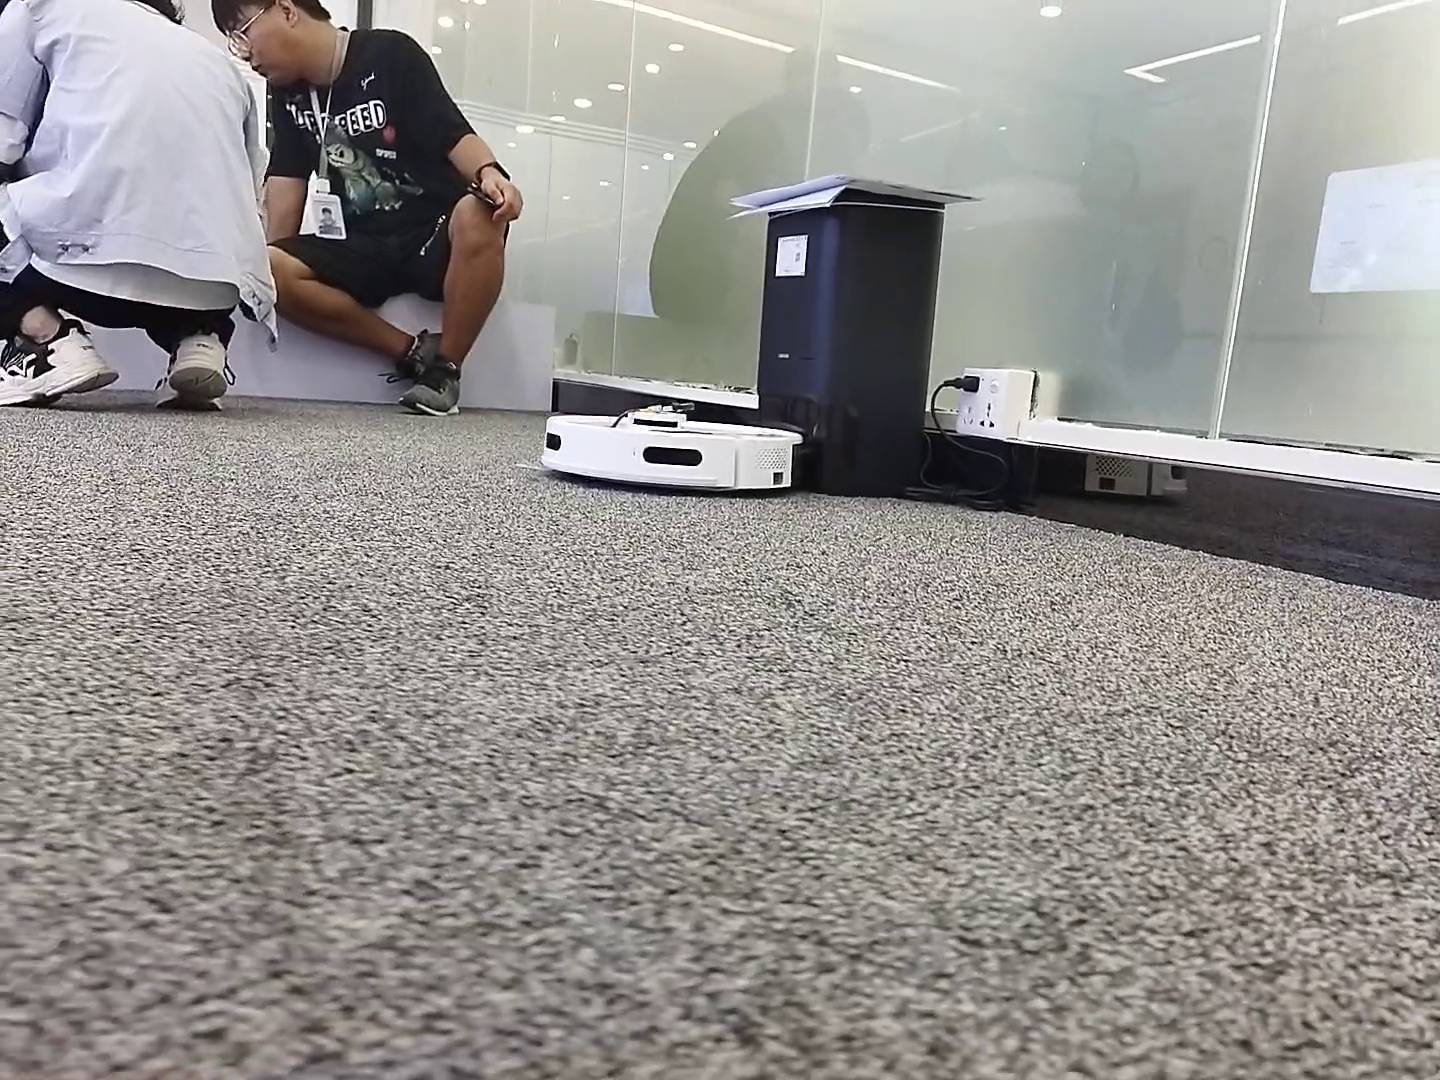dust collecting barrel: (755, 199, 948, 501)
